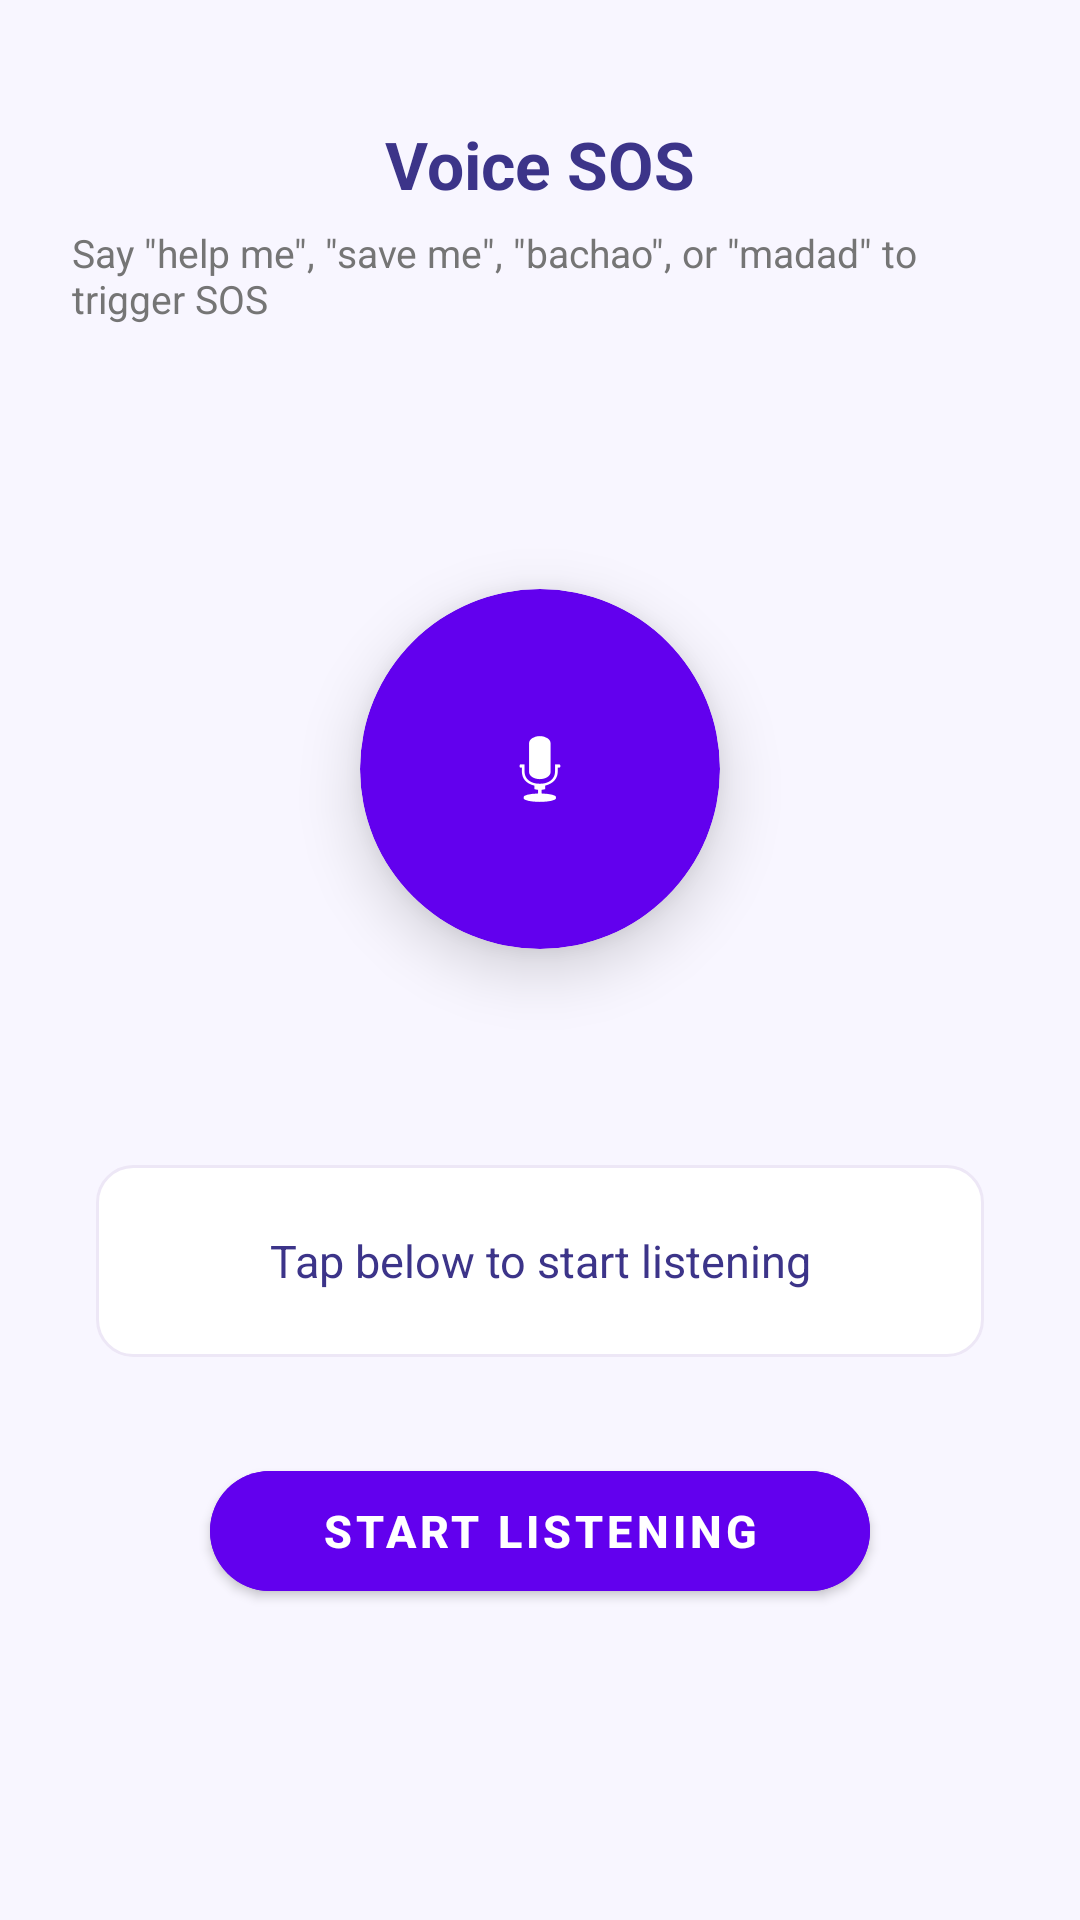

Icons on this 1080w x 1920h Android screen, each with the point to tap as point (x, y):
Microphone: point (540, 769)
